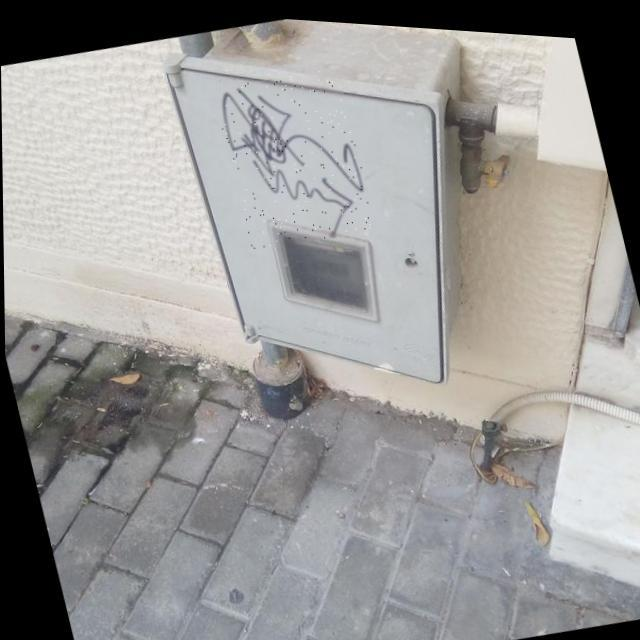-: (211, 56, 376, 254)
